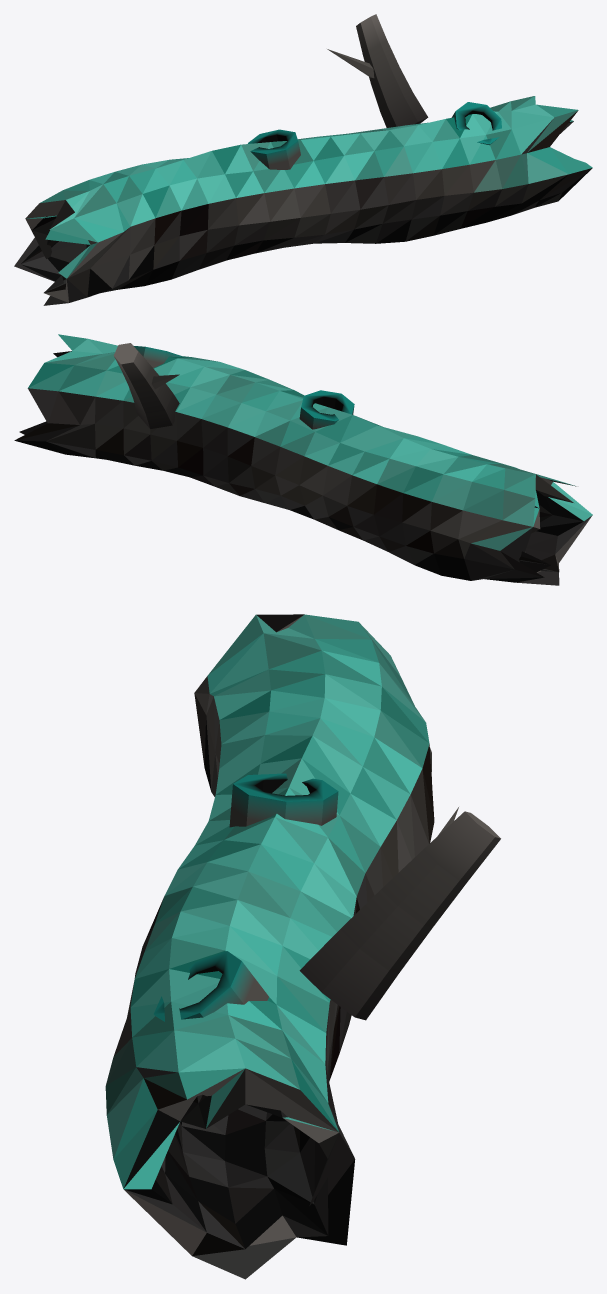
File: pohon_tumbang_hollow_swamp_75785 (2).glb
The picture shows the model from 3 angles, top to bottom: view 1: azimuth 30°, elevation 25°; view 2: azimuth 150°, elevation 25°; view 3: azimuth 270°, elevation 25°; orthographic projection. The views are drawn at different scales.
Visible parts, largest first — view 1: Batang_Pohon_Berlubang; view 2: Batang_Pohon_Berlubang; view 3: Batang_Pohon_Berlubang.
Part boxes in pixels (bbox=[...]): Batang_Pohon_Berlubang: bbox=[14, 14, 592, 305]; Batang_Pohon_Berlubang: bbox=[14, 334, 592, 585]; Batang_Pohon_Berlubang: bbox=[105, 614, 500, 1279].
Size of the model in its own units: 7.56 by 2.39 by 2.51.
